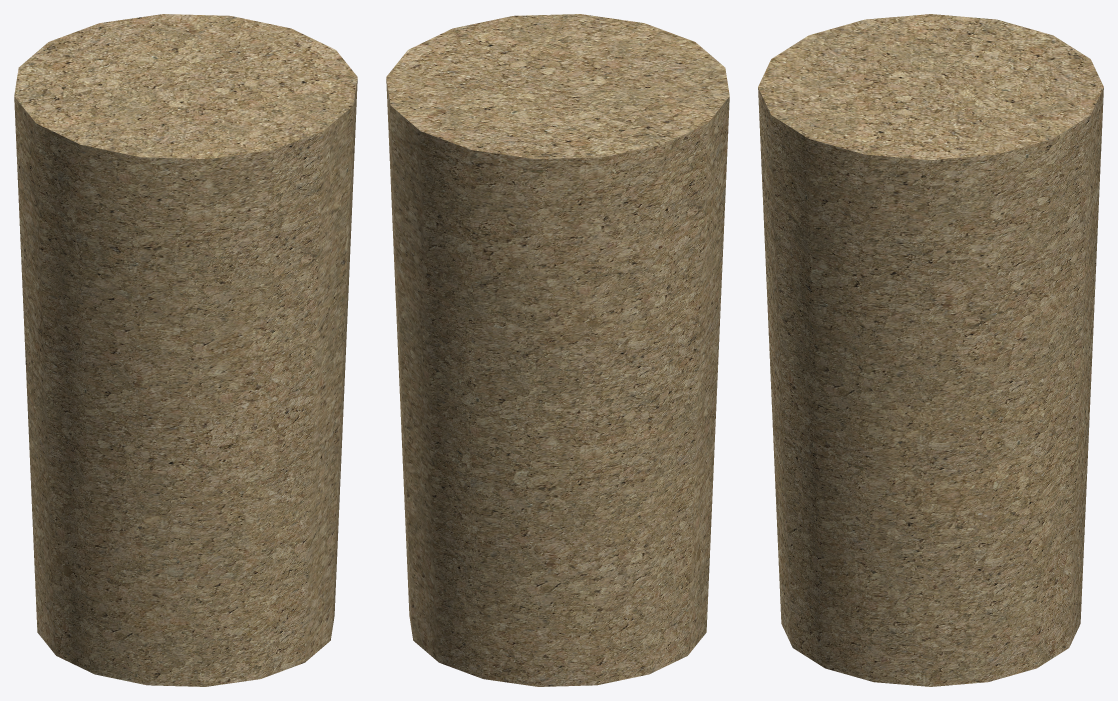
The model's file is Cork.fbx.
The picture shows the model from 3 angles, left to right: view 1: azimuth 30°, elevation 25°; view 2: azimuth 150°, elevation 25°; view 3: azimuth 270°, elevation 25°; orthographic projection.
Visible parts, largest first — view 1: Cork; view 2: Cork; view 3: Cork.
Part boxes in pixels (bbox=[...]): Cork: bbox=[14, 14, 357, 686]; Cork: bbox=[386, 14, 729, 686]; Cork: bbox=[758, 14, 1103, 686].
Bounding box in the file's own units: 2.23 × 3.82 × 2.23.
1 material, 1 textured.
